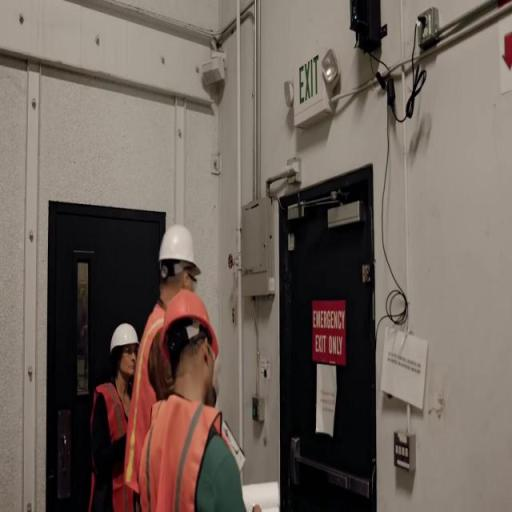helmet: (154, 287, 226, 371), (150, 215, 206, 285), (104, 314, 142, 362)
vest: (134, 390, 245, 512), (83, 375, 141, 511)
